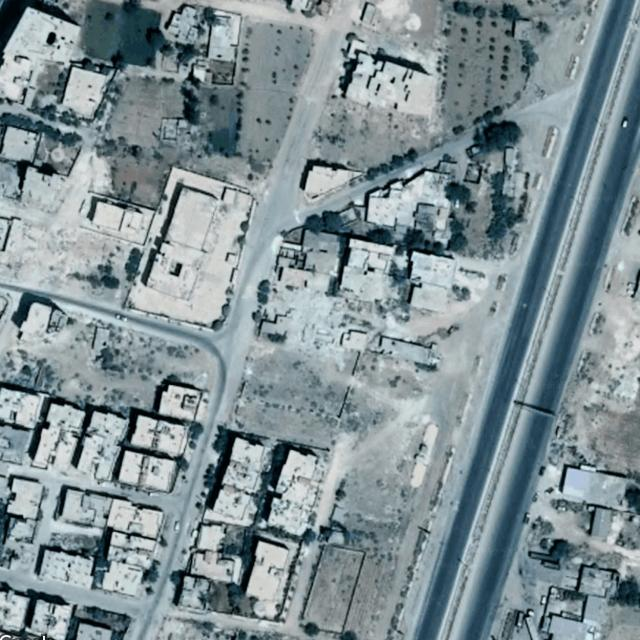damaged_building: (296, 292, 346, 359)
